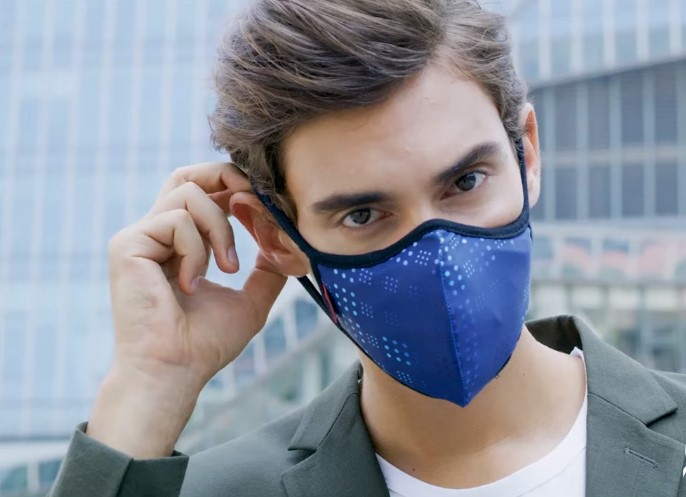face_with_mask: (230, 9, 543, 411)
